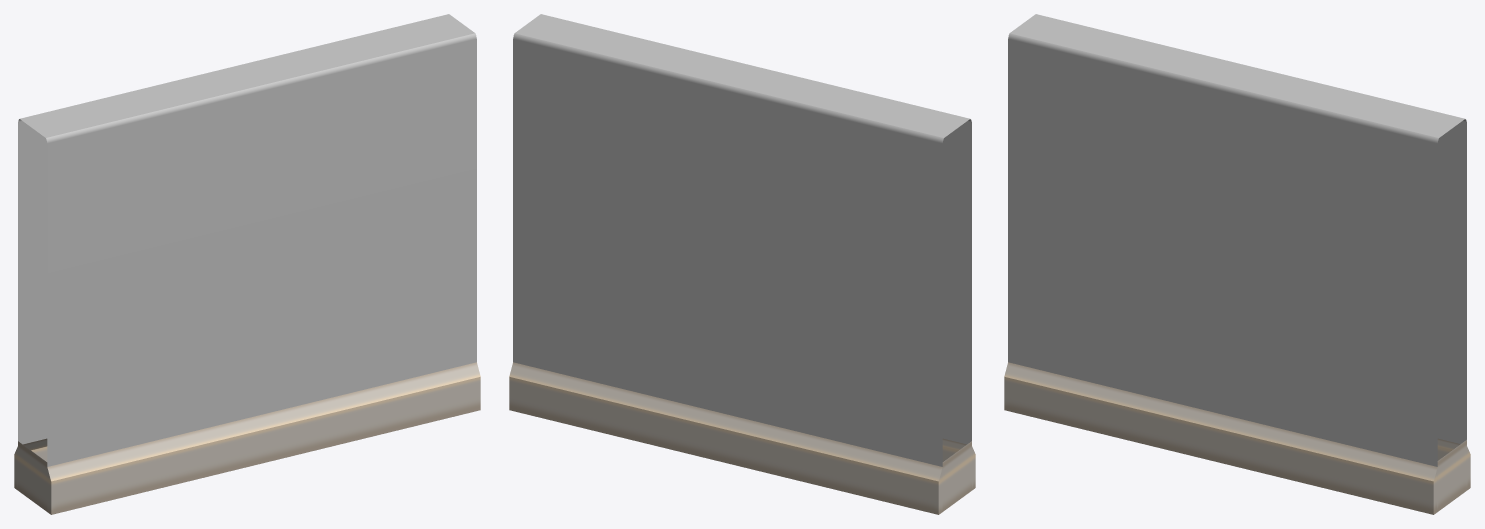
The model's file is Wall-beveled.fbx.
3 views of the same model, side by side, from view 1: azimuth 30°, elevation 25°; view 2: azimuth 150°, elevation 25°; view 3: azimuth 330°, elevation 25° (orthographic).
Parts seen in each view (by area): view 1: Door_wall1; view 2: Door_wall1; view 3: Door_wall1.
Part boxes in pixels (x1,y1,x2,y2): Door_wall1: [14, 14, 480, 514]; Door_wall1: [509, 14, 975, 514]; Door_wall1: [1004, 14, 1470, 514].
Bounding box in the file's own units: 4 × 3.32 × 0.5956.
